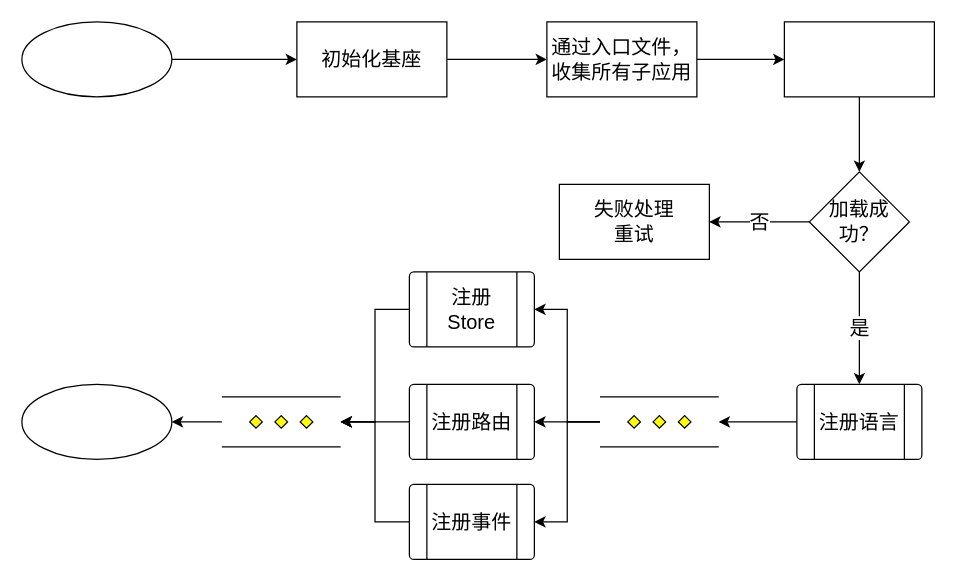
This 956x581 diagram has some shape labels left out. The centre of each missing label's shape, as x and y in pixels:
加载入口文件: (858,59)
并行: (659,421)
开始: (96,59)
结束: (96,421)
